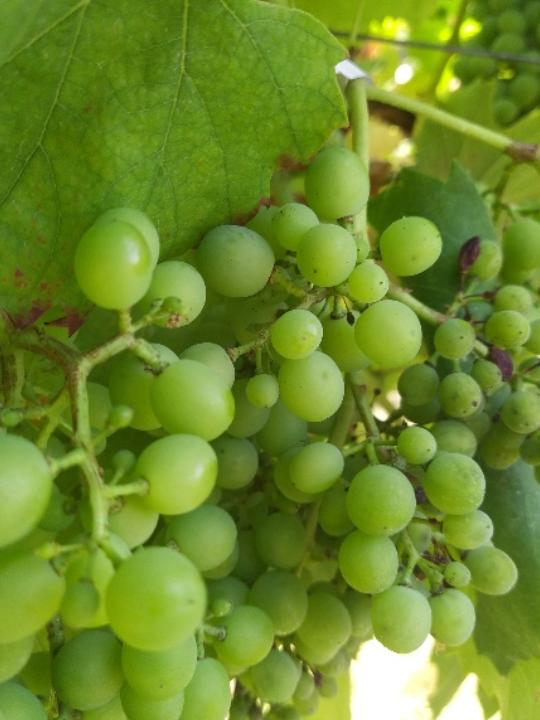grape: (0, 214, 267, 720), (278, 152, 540, 652)
